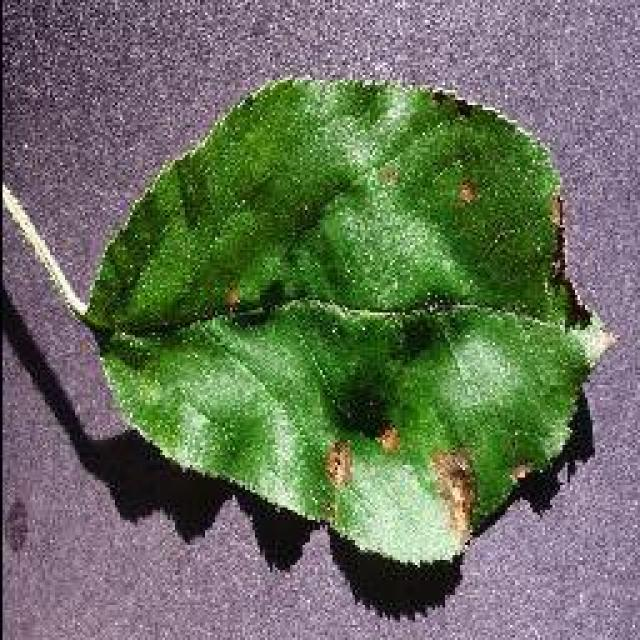apple healthy: (77, 70, 615, 610)
